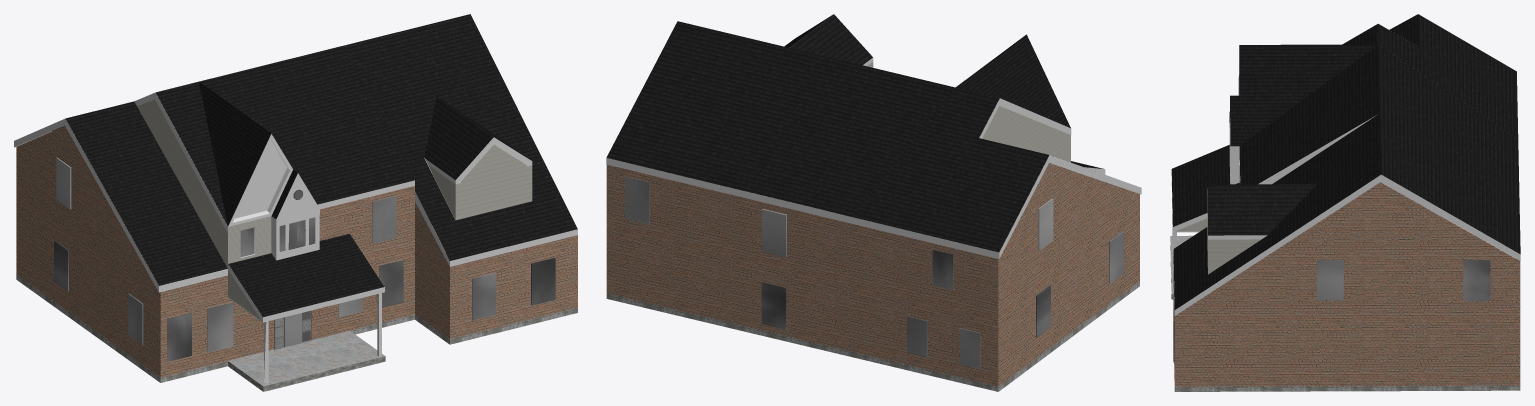
File: House.gltf
3 views of the same model, side by side, from view 1: azimuth 30°, elevation 25°; view 2: azimuth 150°, elevation 25°; view 3: azimuth 270°, elevation 25° (orthographic). The views are drawn at different scales.
Parts seen in each view (by area): view 1: Roof, Walls, Windows, WhiteTrimAndColumns, SidingLeftTopWindow, RightGable, PorchFloor, Foundation, SidingLeftOfOctagon, PorchTrim, DoorGlassTrim, Door; view 2: Roof, Walls, Windows, WhiteTrimAndColumns, Foundation, SidingLeftTopWindow; view 3: Roof, Walls, WhiteTrimAndColumns, Windows, Foundation, RightGable, SidingRoof.
Boxes of the visible parts, x1,y1,x2,y2 form: Roof: [52, 14, 577, 317]; Walls: [16, 126, 577, 377]; Windows: [54, 157, 555, 361]; WhiteTrimAndColumns: [14, 15, 577, 384]; SidingLeftTopWindow: [137, 99, 271, 268]; RightGable: [428, 145, 532, 220]; PorchFloor: [228, 330, 384, 386]; Foundation: [16, 274, 577, 382]; SidingLeftOfOctagon: [232, 140, 289, 222]; PorchTrim: [228, 356, 385, 391]; DoorGlassTrim: [274, 310, 311, 349]; Door: [284, 313, 301, 346]; Roof: [606, 14, 1103, 252]; Walls: [606, 163, 1139, 386]; Windows: [625, 176, 1123, 368]; WhiteTrimAndColumns: [606, 21, 1141, 258]; Foundation: [606, 281, 1139, 391]; SidingLeftTopWindow: [982, 106, 1070, 162]; Roof: [1171, 14, 1520, 309]; Walls: [1173, 165, 1520, 386]; WhiteTrimAndColumns: [1171, 19, 1520, 315]; Windows: [1173, 259, 1519, 362]; Foundation: [1174, 207, 1520, 391]; RightGable: [1207, 196, 1261, 274]; SidingRoof: [1258, 115, 1376, 184].
Size of the model in its own units: 127 by 69.6 by 102.
8 materials, 7 textured.
